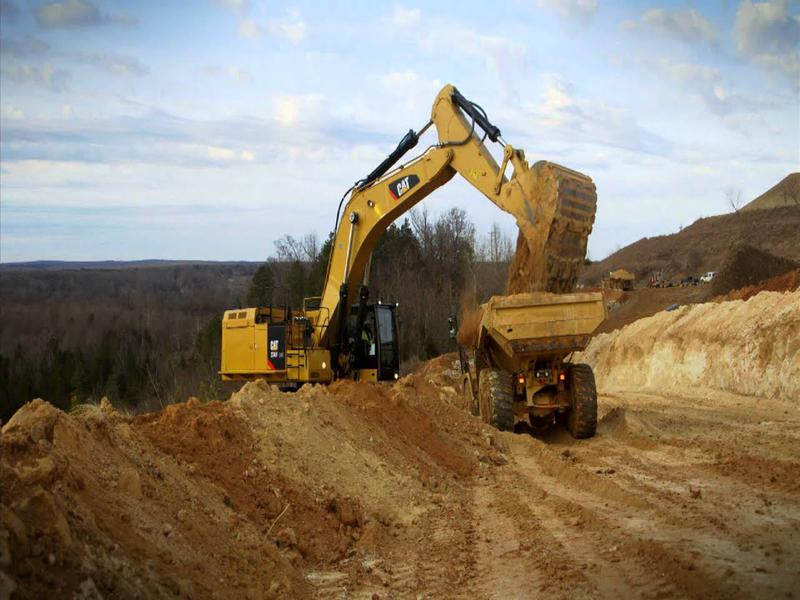shovel: (213, 80, 595, 392)
